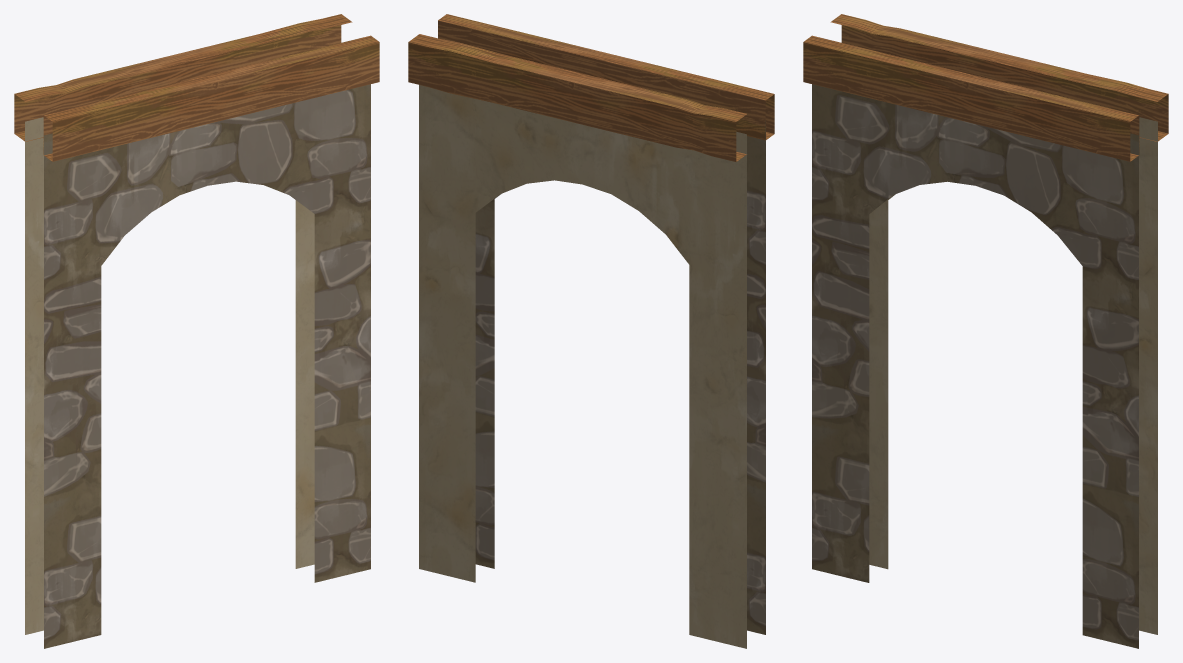
File: Wall_UnevenBrick_Door_Round.glb
3 views of the same model, side by side, from view 1: azimuth 30°, elevation 25°; view 2: azimuth 150°, elevation 25°; view 3: azimuth 330°, elevation 25° (orthographic).
Parts seen in each view (by area): view 1: Wall_UnevenBrick_Door_Round; view 2: Wall_UnevenBrick_Door_Round; view 3: Wall_UnevenBrick_Door_Round.
Boxes of the visible parts, left/top/right/bottom form: Wall_UnevenBrick_Door_Round: left=14, top=14, right=379, bottom=648; Wall_UnevenBrick_Door_Round: left=408, top=14, right=774, bottom=648; Wall_UnevenBrick_Door_Round: left=803, top=14, right=1168, bottom=648.
Size of the model in its own units: 2 by 3.12 by 0.4065.
Materials: 3 (3 with a texture image).
